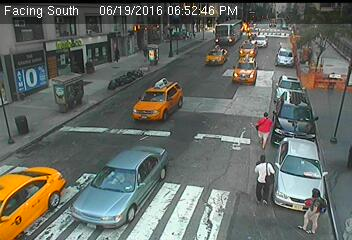neg: (76, 49, 102, 84), (55, 59, 81, 94), (156, 24, 168, 40), (136, 26, 146, 39)
pos: (245, 156, 282, 206), (296, 184, 332, 233), (248, 105, 282, 150), (110, 44, 127, 67)
